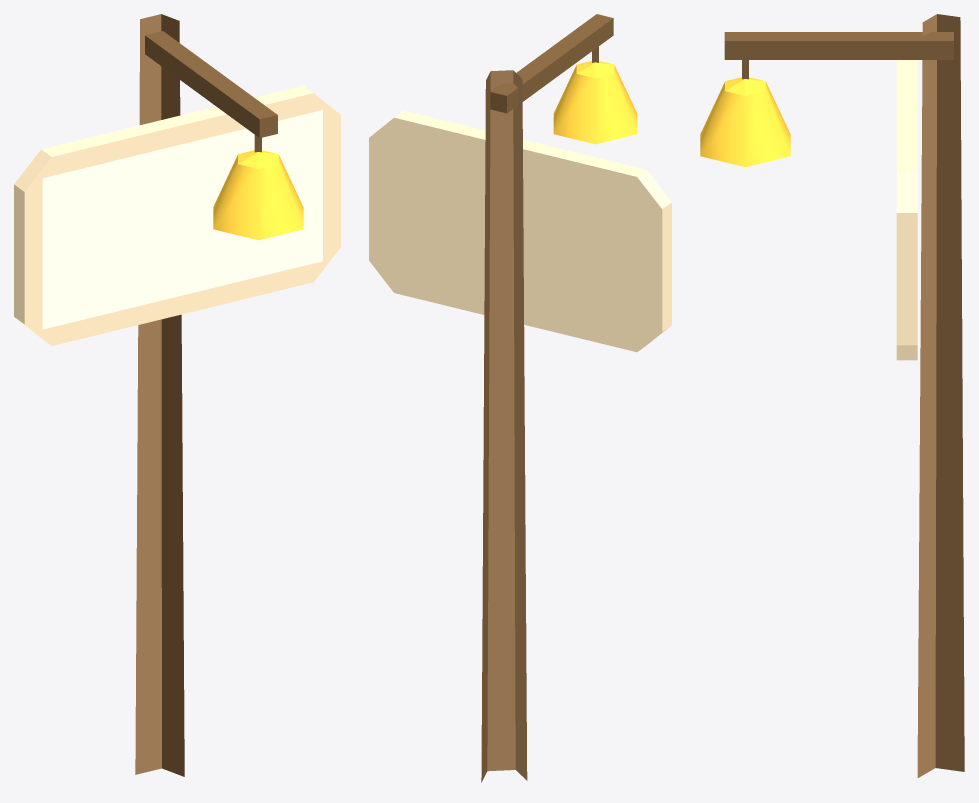
The model's file is sign-bell.glb.
The picture shows the model from 3 angles, left to right: view 1: azimuth 30°, elevation 25°; view 2: azimuth 150°, elevation 25°; view 3: azimuth 270°, elevation 25°; orthographic projection. The views are drawn at different scales.
Parts seen in each view (by area): view 1: sign-bell, bell; view 2: sign-bell, bell; view 3: sign-bell, bell.
Part boxes in pixels (x1,y1,x2,y2): sign-bell: (14, 14, 340, 776); bell: (213, 135, 303, 240); sign-bell: (369, 14, 671, 782); bell: (553, 46, 637, 144); sign-bell: (724, 14, 964, 777); bell: (700, 60, 790, 167).
Size of the model in its own units: 0.7 by 1.6 by 0.5071.
